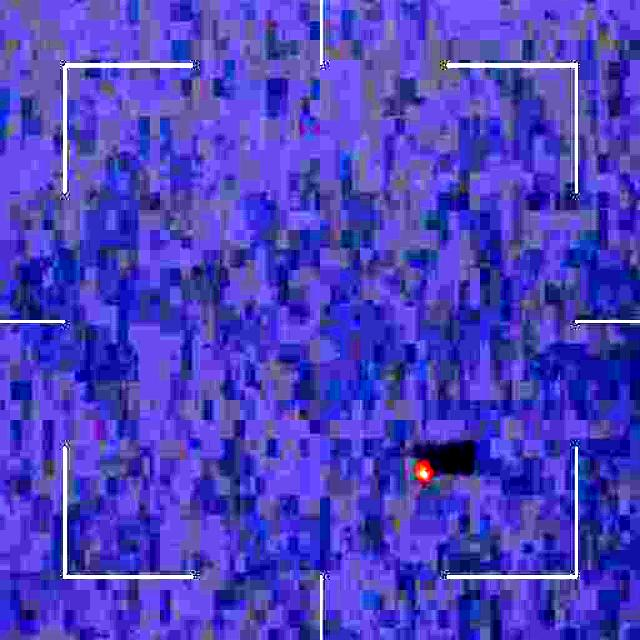bird: (410, 444, 439, 495)
